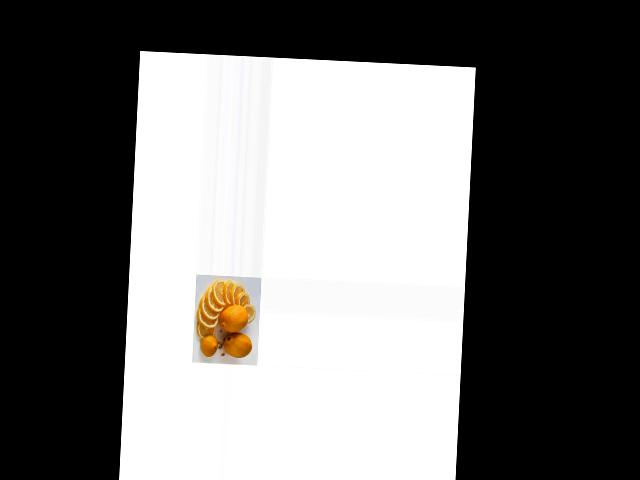lemon: (200, 335, 220, 356)
